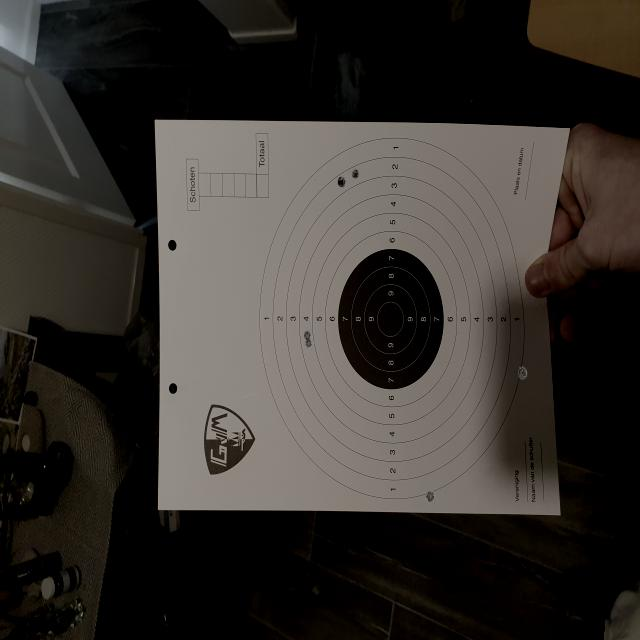1: (424, 490, 435, 504), (518, 365, 528, 380)
2: (338, 176, 346, 188), (352, 168, 359, 179)
4: (303, 330, 313, 339)
5: (305, 340, 315, 349)
Target: (258, 134, 526, 498)
black_contour: (338, 248, 443, 388)
